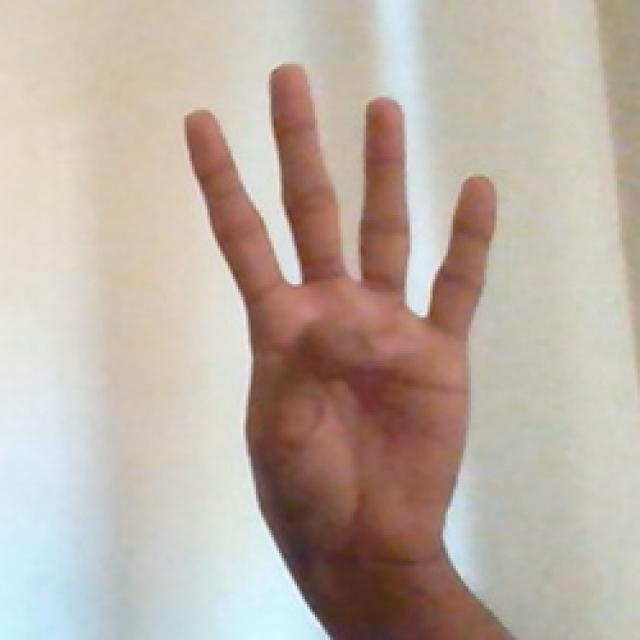Numeric-4: (182, 62, 497, 560)
